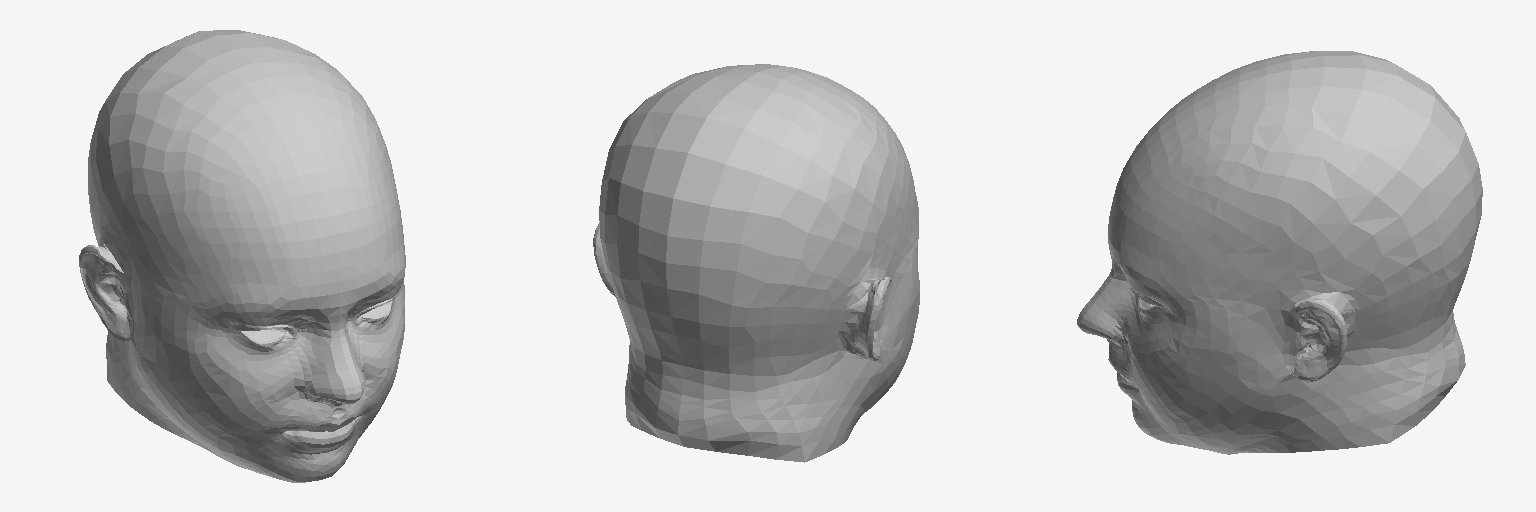
The model's file is result.obj.
The picture shows the model from 3 angles: view 1: azimuth 30°, elevation 25°; view 2: azimuth 150°, elevation 25°; view 3: azimuth 270°, elevation 25°; orthographic projection.
Size of the model in its own units: 0.1787 by 0.224 by 0.2166.